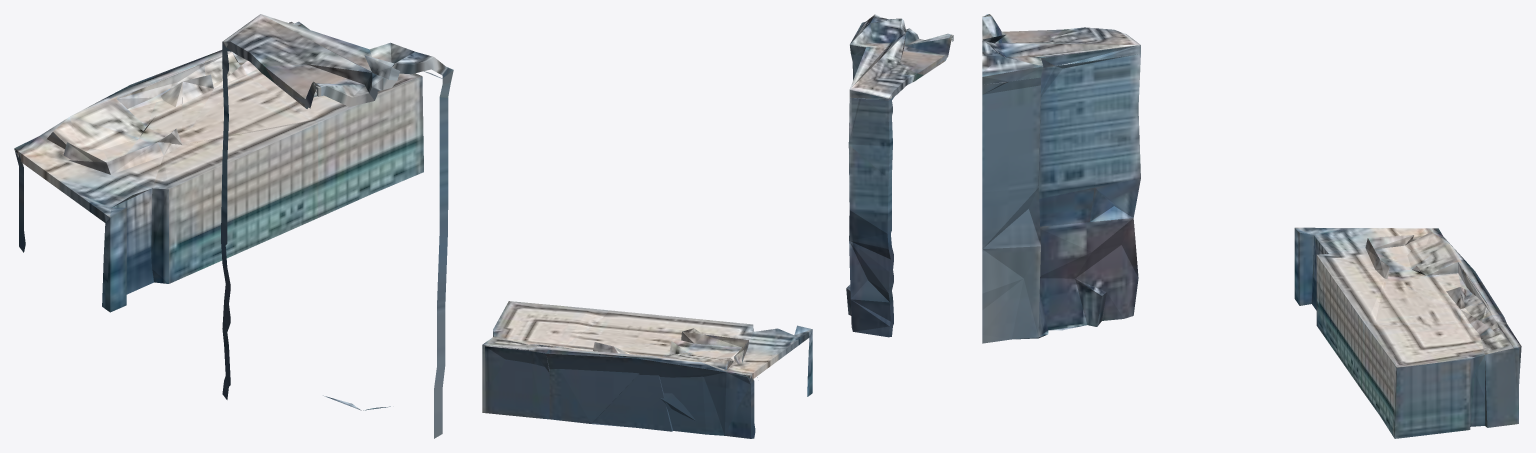
Rendered from chunk_3_4.glb.
3 views of the same model, side by side, from view 1: azimuth 30°, elevation 25°; view 2: azimuth 150°, elevation 25°; view 3: azimuth 270°, elevation 25° (orthographic). The views are drawn at different scales.
Visible parts, largest first — view 1: hero-chunk; view 2: hero-chunk; view 3: hero-chunk.
Part boxes in pixels (x1=…): hero-chunk: x1=14, y1=14, x2=453, y2=438; hero-chunk: x1=482, y1=14, x2=953, y2=438; hero-chunk: x1=982, y1=14, x2=1521, y2=438.
Size of the model in its own units: 41.88 by 40.34 by 68.02.
1 material, 1 textured.
